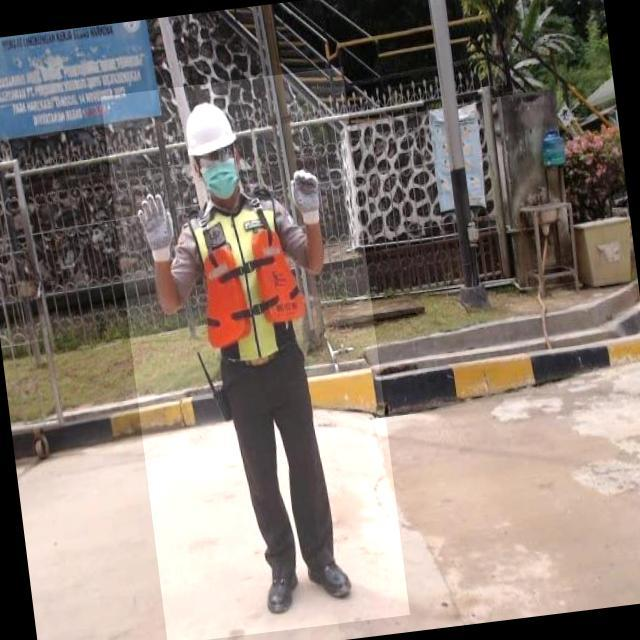Gloves: (129, 187, 187, 272), (285, 159, 329, 231)
Helmet: (180, 94, 246, 165)
Person: (121, 70, 419, 632)
Safety Boot: (302, 547, 358, 609), (262, 568, 305, 620)
Safety Vest: (181, 187, 315, 374)
